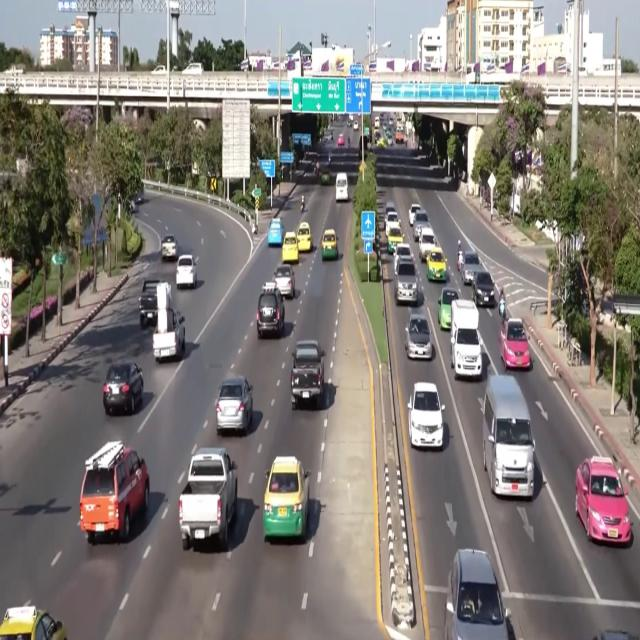car: (80, 441, 149, 544), (445, 550, 511, 639), (576, 456, 631, 544), (263, 456, 309, 542), (408, 382, 444, 448), (216, 376, 253, 434), (0, 607, 67, 639), (103, 362, 143, 415), (500, 319, 531, 371), (257, 281, 284, 338), (405, 312, 434, 359), (394, 257, 418, 304), (472, 270, 495, 307), (438, 287, 458, 329), (461, 251, 483, 285), (274, 264, 295, 299), (176, 254, 197, 289), (427, 248, 446, 281), (419, 227, 436, 262), (413, 209, 430, 241), (321, 229, 338, 260), (282, 232, 298, 263), (394, 243, 411, 272), (387, 224, 403, 254), (296, 223, 312, 252), (268, 219, 284, 247), (161, 235, 178, 261), (336, 173, 348, 202), (596, 631, 639, 639), (385, 210, 399, 234), (409, 204, 421, 226), (182, 63, 203, 75), (320, 165, 331, 185), (385, 201, 396, 216), (151, 65, 166, 75), (376, 138, 388, 148), (337, 134, 345, 147), (353, 120, 358, 130)
scooty: (499, 298, 505, 321), (457, 252, 462, 271), (301, 196, 304, 213)
truck: (179, 448, 237, 551), (450, 299, 482, 379), (153, 282, 185, 362), (291, 341, 324, 409), (153, 309, 185, 362), (139, 280, 159, 328)
